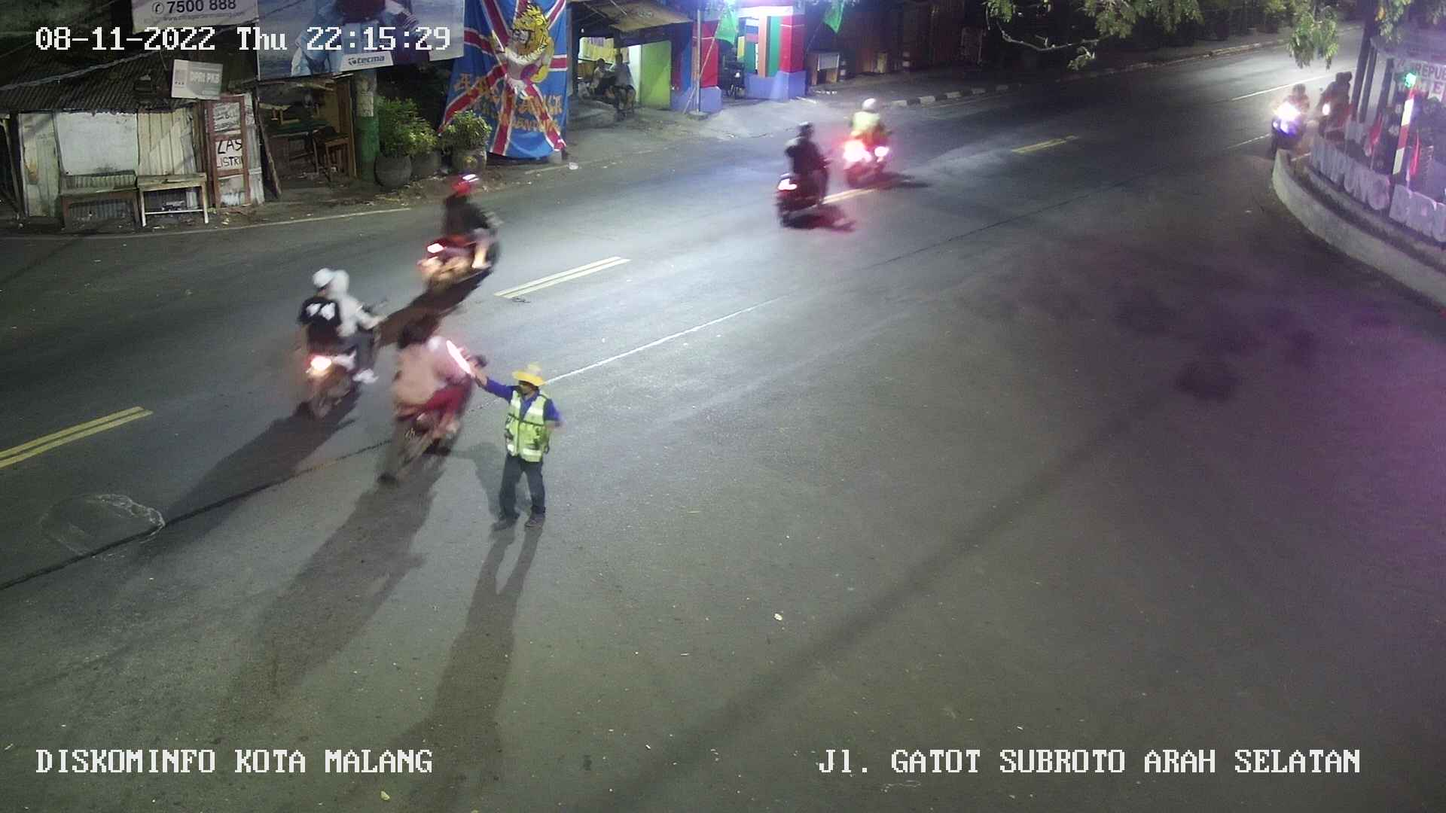with_helmet: (757, 110, 862, 260), (418, 160, 529, 290), (825, 83, 905, 186)
without_helmet: (371, 290, 480, 501), (281, 251, 377, 430)
